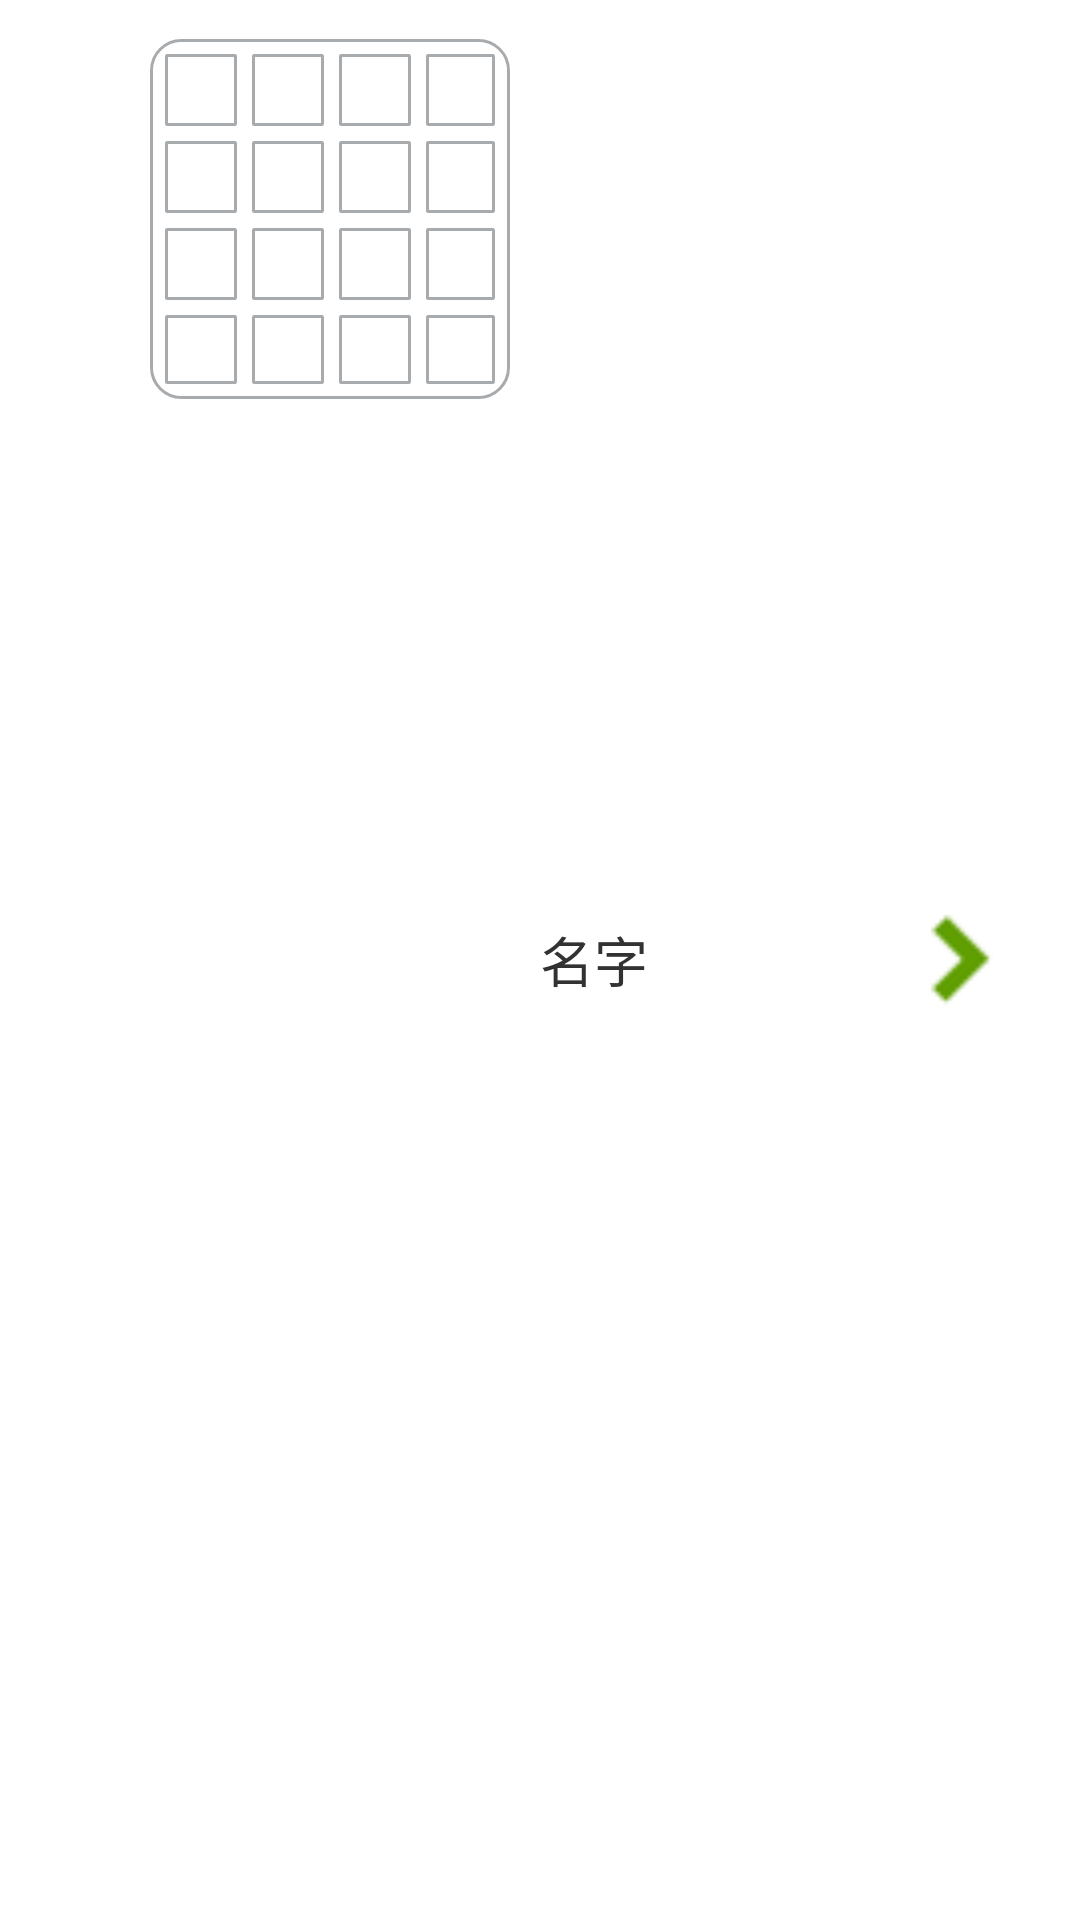

Screen size 1080 × 1920. Icon name, then its box in pixels as (x1, y1, x2, y2):
arrow on: (931, 915, 990, 1003)
